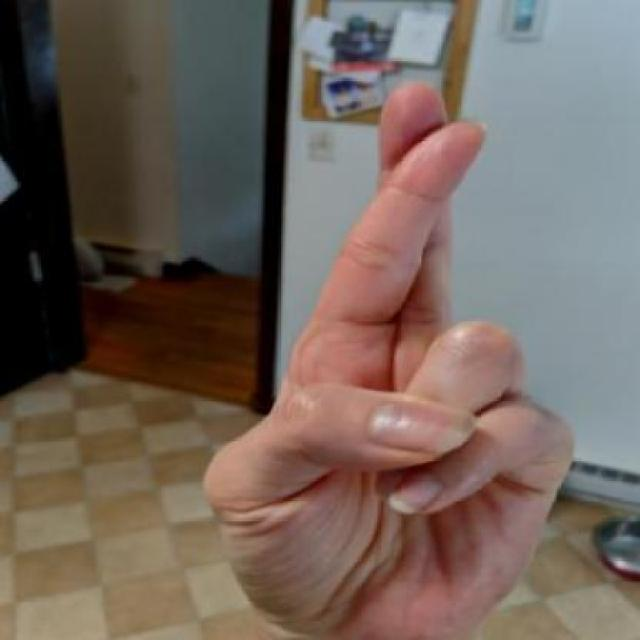R: (185, 61, 604, 638)
